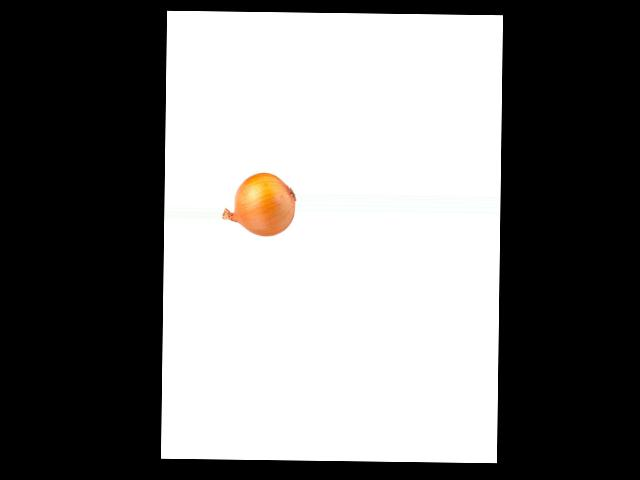onion: (231, 171, 294, 238)
